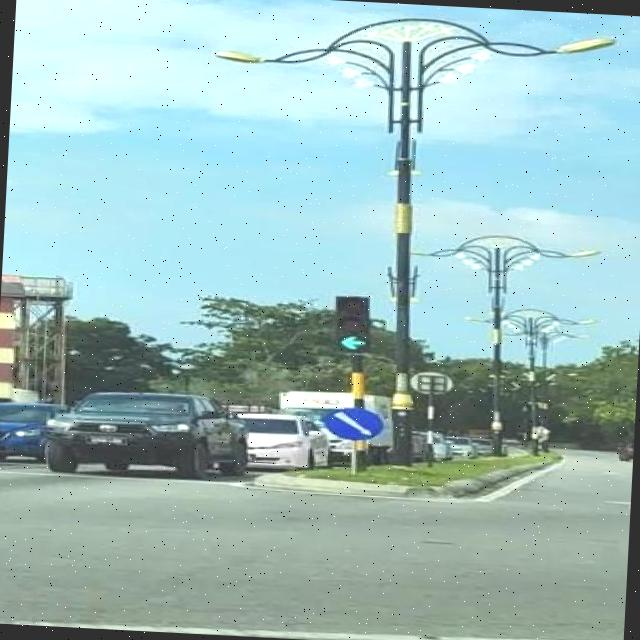green_light: (332, 294, 371, 353)
